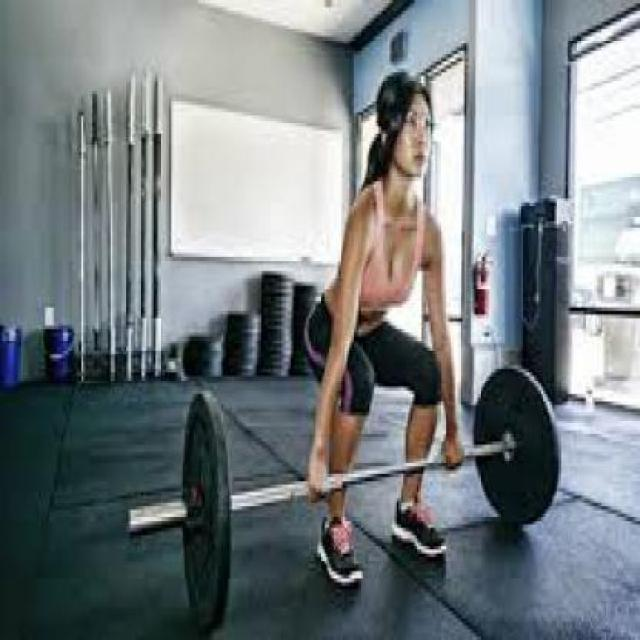Barbell: (122, 495, 144, 543)
